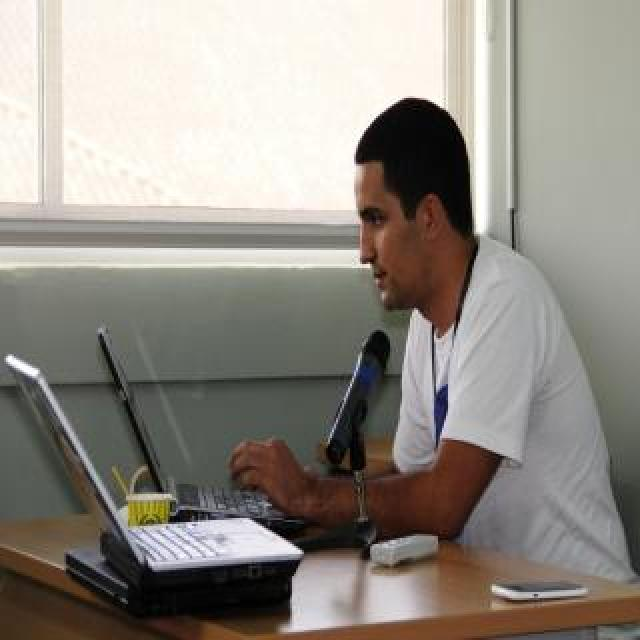laptop_computer: (5, 385, 250, 640), (85, 318, 308, 534)
smart phone: (477, 568, 588, 617)
